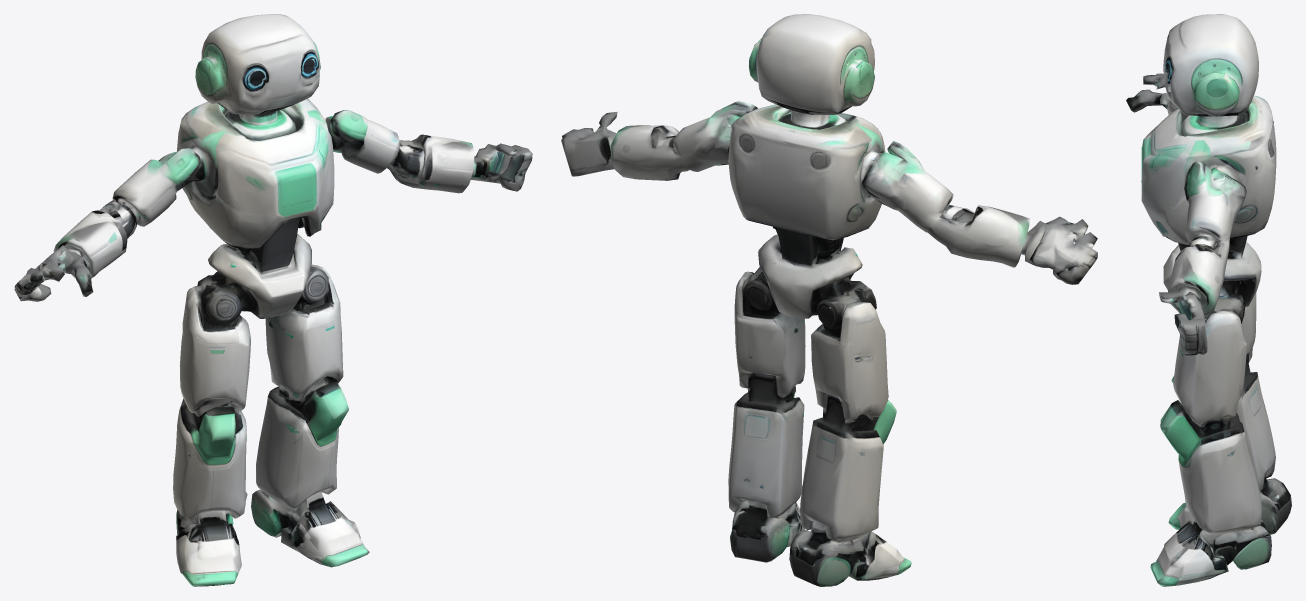
File: h25-robot-static.glb
The picture shows the model from 3 angles, left to right: view 1: azimuth 30°, elevation 25°; view 2: azimuth 150°, elevation 25°; view 3: azimuth 270°, elevation 25°; orthographic projection. The views are drawn at different scales.
Visible parts, largest first — view 1: tripo_node_be9e54de-c2ec-4e14-b346-c7795d64b27d; view 2: tripo_node_be9e54de-c2ec-4e14-b346-c7795d64b27d; view 3: tripo_node_be9e54de-c2ec-4e14-b346-c7795d64b27d.
Boxes of the visible parts, x1,y1,x2,y2 form: tripo_node_be9e54de-c2ec-4e14-b346-c7795d64b27d: (14, 14, 532, 586); tripo_node_be9e54de-c2ec-4e14-b346-c7795d64b27d: (561, 14, 1097, 586); tripo_node_be9e54de-c2ec-4e14-b346-c7795d64b27d: (1126, 14, 1291, 586).
Size of the model in its own units: 1 by 0.9821 by 0.2812.
Materials: 1 (1 with a texture image).
